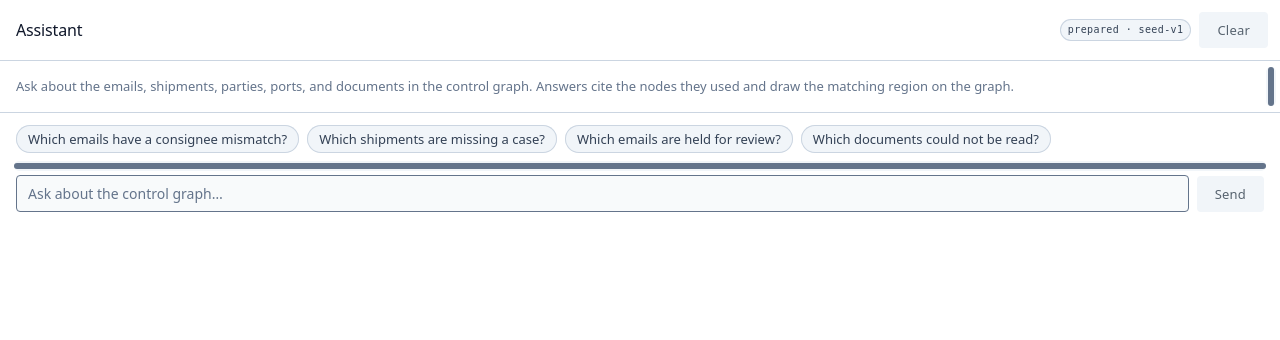
Test case: GraphChatPanel › shows the provider failure message with a manual retry that resends the same question
Click the button "Which emails have a consignee mismatch?". click: (158, 139)
box: [16,125,299,153]
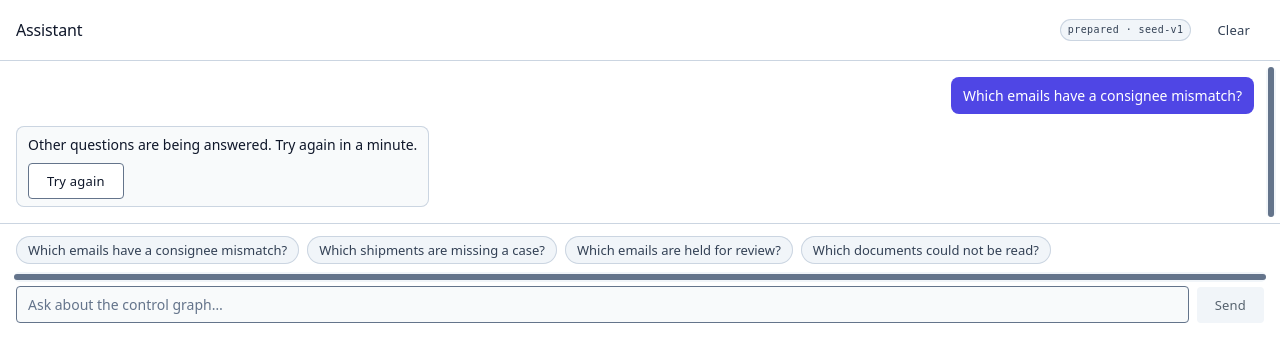
Result: the text "Other questions are being answered. Try again in a minute." is shown at [28,134,417,155]
Click the button "Try again". click: (76, 181)
box: [28,163,124,199]
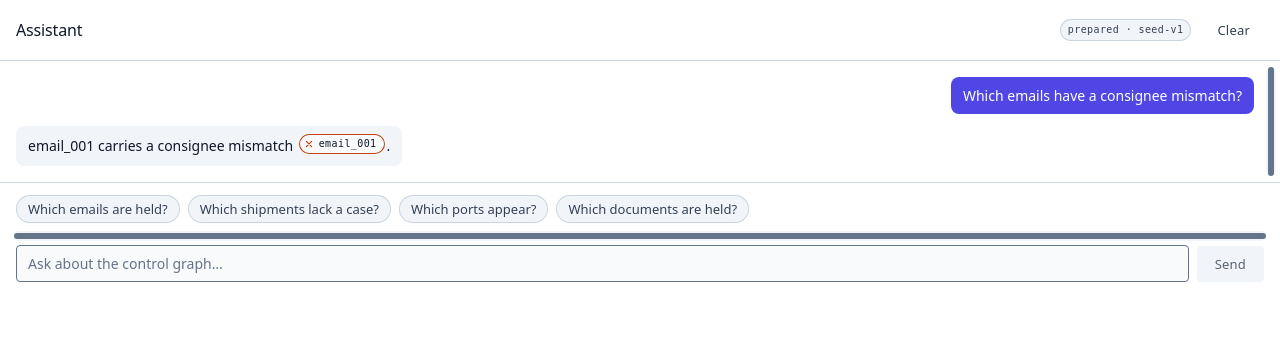
Result: the text "email_001 carries a consignee mismatch email_001 ." is shown at [28,134,390,158]
